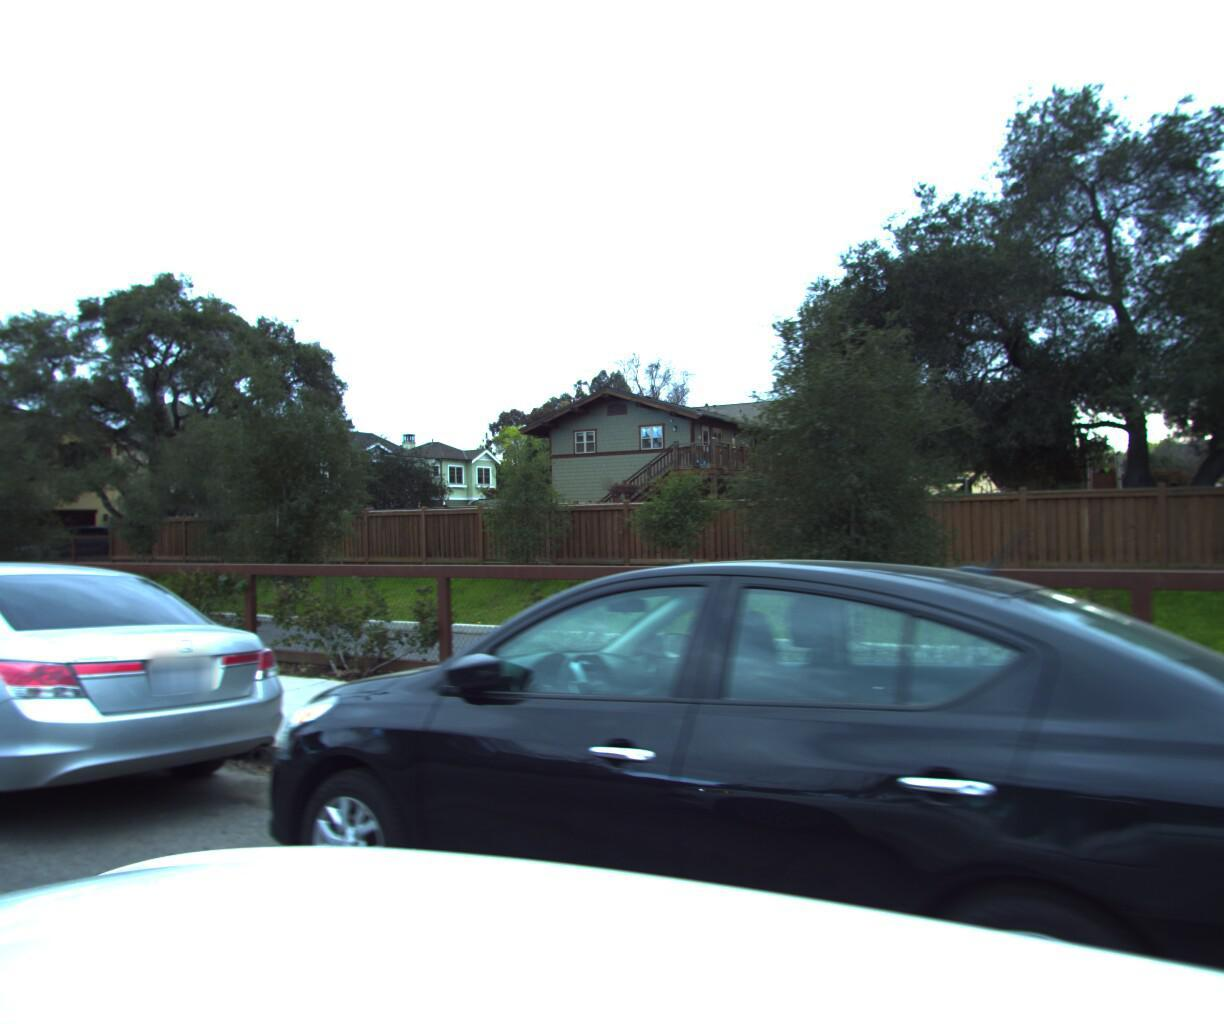car: (202, 549, 1224, 1024), (0, 550, 319, 913)
